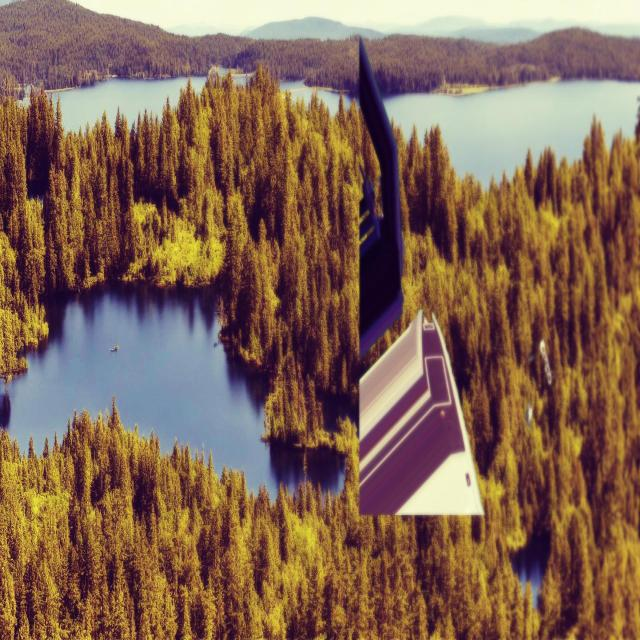airplane: (358, 34, 485, 517)
